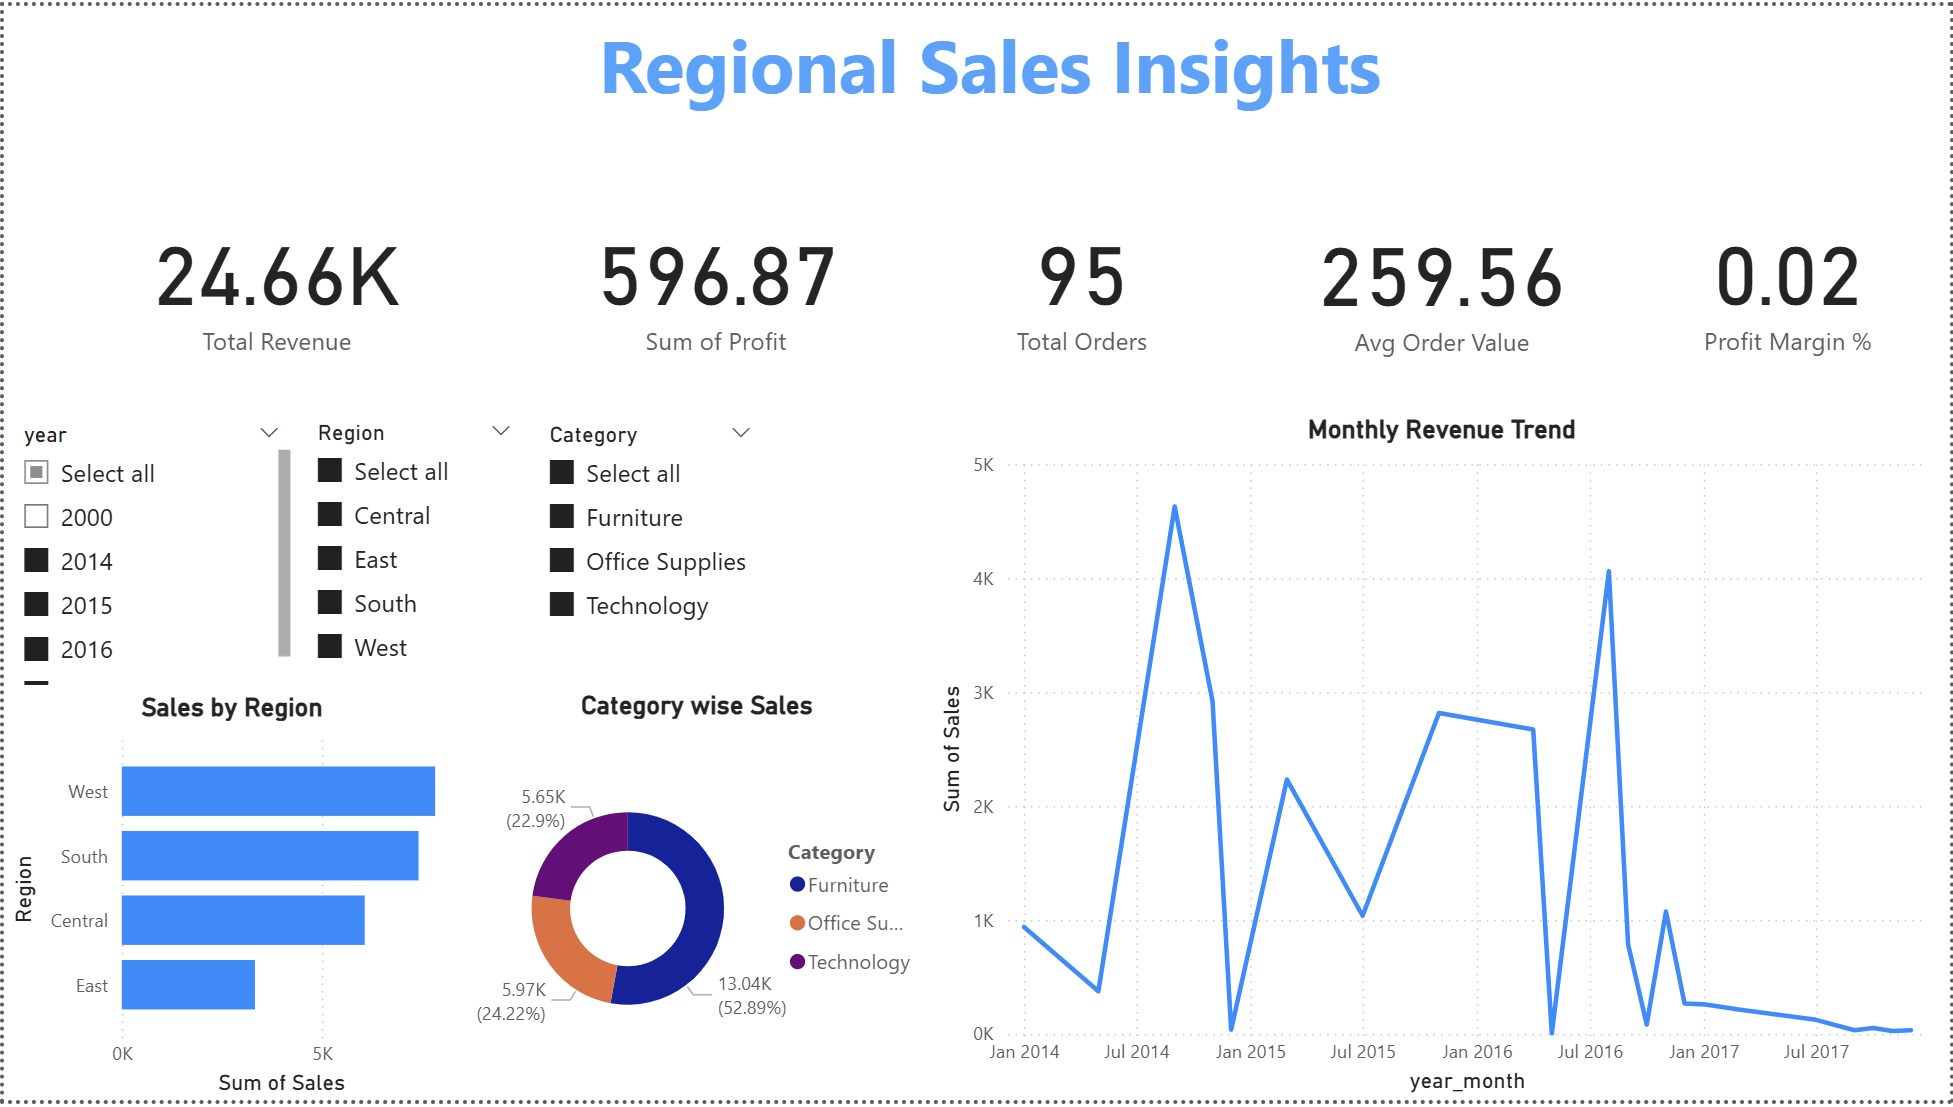

What the dashboard file says about the page in this screenshot:
{"tool":"powerbi","page":{"name":"Page 1","canvas":[1280,720],"ordinal":0},"visuals":[{"type":"textbox","box":[232.9,0,831.6,96.1],"z":8000},{"type":"card","fields":{"Values":["Sum(projecte.Sales)"]},"box":[13.2,96.1,332.9,171.1],"z":8001},{"type":"card","fields":{"Values":["Sum(projecte.Profit)"]},"box":[346.1,96.1,244.7,171.1],"z":8002},{"type":"card","fields":{"Values":["CountNonNull(projecte.Order_ID)"]},"box":[590.8,96.1,236.8,171.1],"z":8003},{"type":"card","fields":{"Values":["Avg(projecte.Sales)"]},"box":[827.6,96.1,236.8,172.4],"z":8004},{"type":"lineChart","title":"Monthly Revenue Trend","fields":{"Category":["projecte.year_month"],"Y":["Sum(projecte.Sales)"]},"box":[610.5,268.4,671.1,451.3],"z":8005},{"type":"clusteredBarChart","title":" Sales by Region","fields":{"Category":["projecte.Region"],"Y":["Sum(projecte.Sales)"]},"box":[0,451.3,300,269.7],"z":8006},{"type":"donutChart","title":"Category wise Sales","fields":{"Category":["projecte.Category"],"Y":["Sum(projecte.Sales)"]},"box":[300,450,311.8,268.4],"z":8007},{"type":"slicer","fields":{"Values":["projecte.Region"]},"box":[193.4,267.1,152.6,182.9],"z":8008},{"type":"slicer","fields":{"Values":["projecte.Column"]},"box":[0,268.4,193.4,182.9],"z":8009},{"type":"slicer","fields":{"Values":["projecte.Category"]},"box":[346.1,268.4,157.9,182.9],"z":8010},{"type":"card","fields":{"Values":["projecte.Profit Margin %"]},"box":[1064.5,96.1,218.4,171.1],"z":8012}]}

Visuals, with their boxes in screenshot pixels (x1, y1, x2, y2), scaled from the page's 1280x720 canvas onto the 1953x1107 screenshot:
textbox: [left=355, top=0, right=1624, bottom=148]
card - Sum(projecte.Sales): [left=20, top=148, right=528, bottom=411]
card - Sum(projecte.Profit): [left=528, top=148, right=901, bottom=411]
card - CountNonNull(projecte.Order_ID): [left=901, top=148, right=1263, bottom=411]
card - Avg(projecte.Sales): [left=1263, top=148, right=1624, bottom=413]
"Monthly Revenue Trend" lineChart: [left=931, top=413, right=1952, bottom=1106]
" Sales by Region" clusteredBarChart: [left=0, top=694, right=458, bottom=1106]
"Category wise Sales" donutChart: [left=458, top=692, right=933, bottom=1105]
slicer - projecte.Region: [left=295, top=411, right=528, bottom=692]
slicer - projecte.Column: [left=0, top=413, right=295, bottom=694]
slicer - projecte.Category: [left=528, top=413, right=769, bottom=694]
card - projecte.Profit Margin %: [left=1624, top=148, right=1952, bottom=411]
